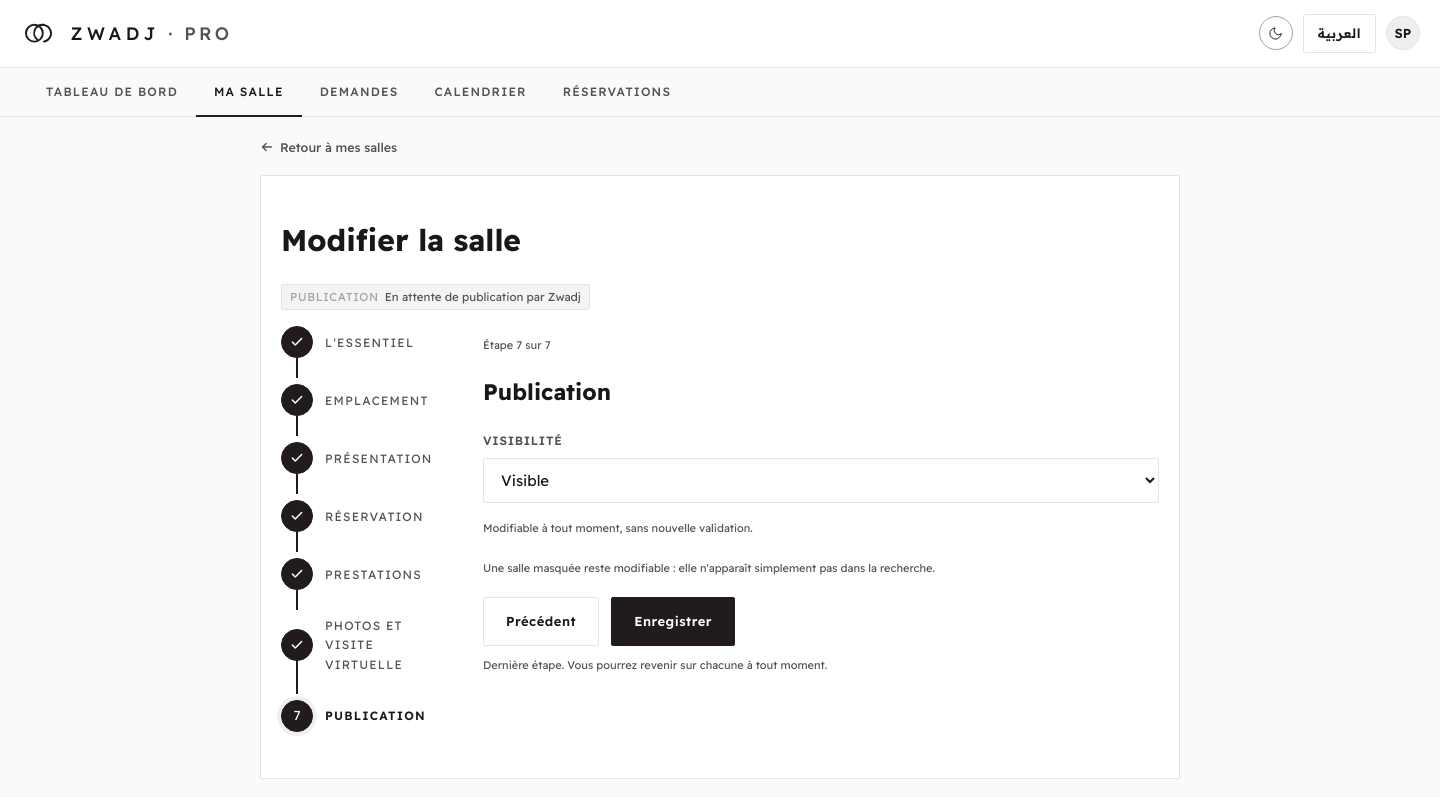
it: Point 14 — « Enregistrer » à la dernière étape dit TOUJOURS ce qu'il a fait › U-a : sans rien de modifié, aucune requête ne part — et l'écran le DIT, au lieu de se taire
The image size is (1440, 797).
Expected: the heading "Publication" is shown, x1=483 y1=376 x2=611 y2=406
What coordinates should you click on to do the following:
click the button "Enregistrer"
I would click on:
 (673, 622)
Its box is x1=611 y1=597 x2=735 y2=646.
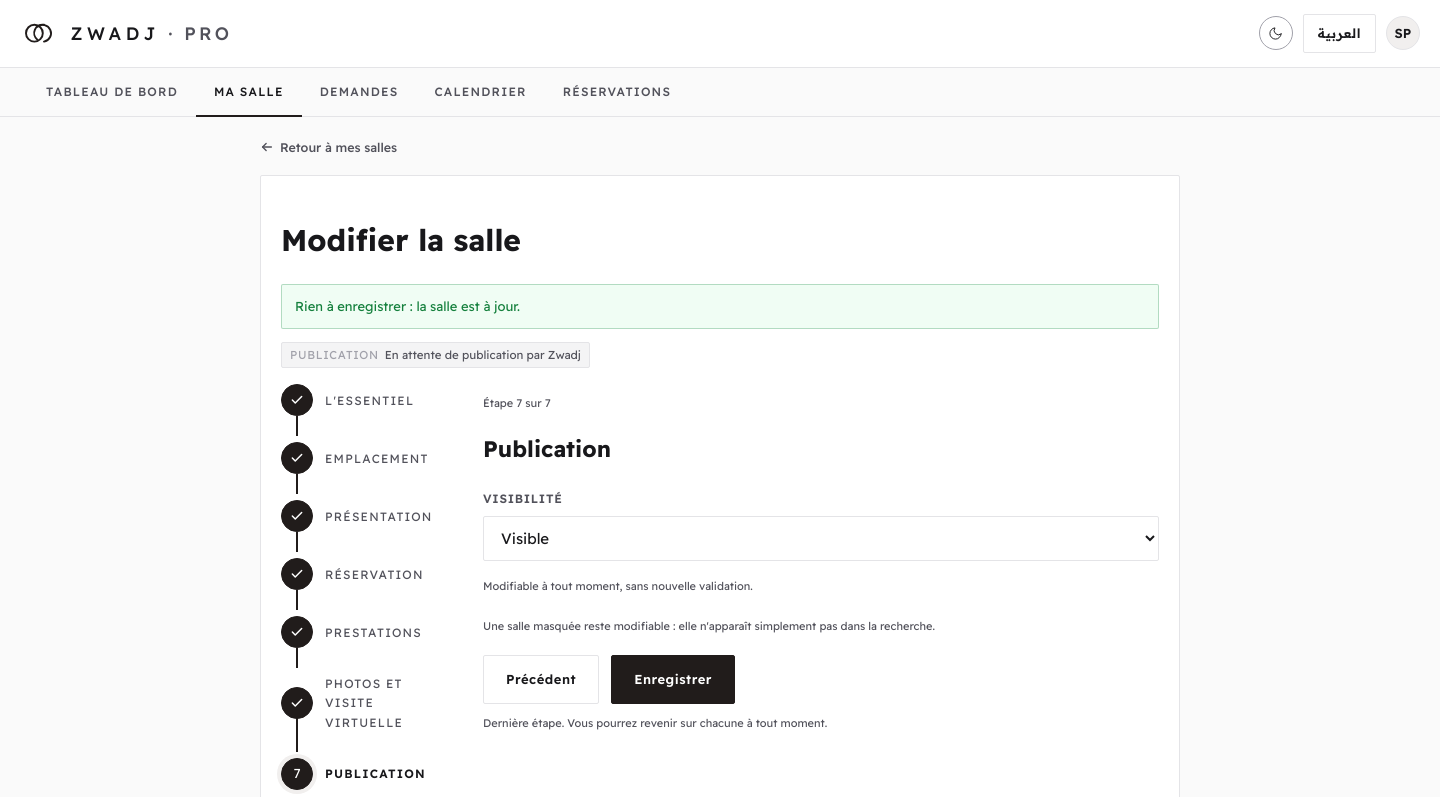
Result: the message reads "Rien à enregistrer : la salle est à jour." at x1=295 y1=298 x2=520 y2=314
